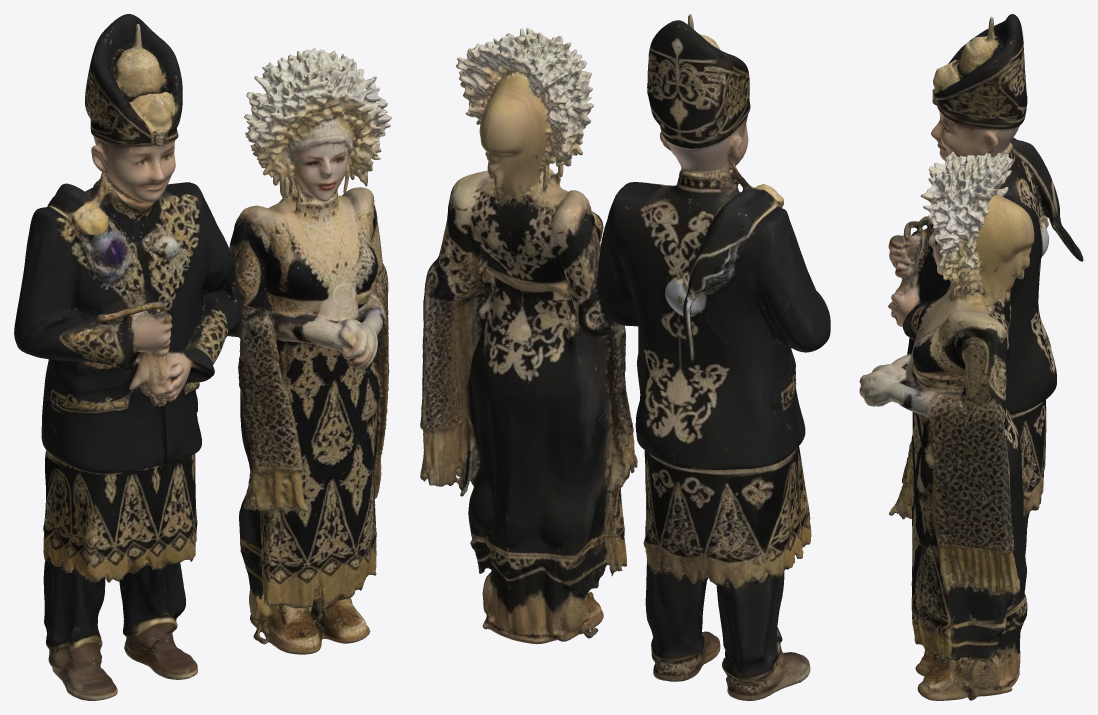
The model's file is baju-adat-aceh.glb.
3 views of the same model, side by side, from view 1: azimuth 30°, elevation 25°; view 2: azimuth 150°, elevation 25°; view 3: azimuth 270°, elevation 25° (orthographic). The views are drawn at different scales.
Parts seen in each view (by area): view 1: Object_4; view 2: Object_4; view 3: Object_4.
Boxes of the visible parts, x1,y1,x2,y2 form: Object_4: (14,14,391,700); Object_4: (420,14,830,700); Object_4: (859,14,1083,700).
Bounding box in the file's own units: 1.23 × 2 × 0.6822.
Materials: 1 (1 with a texture image).
